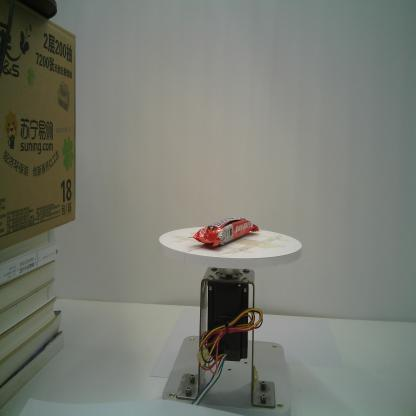Chocolate: (188, 217, 260, 247)
